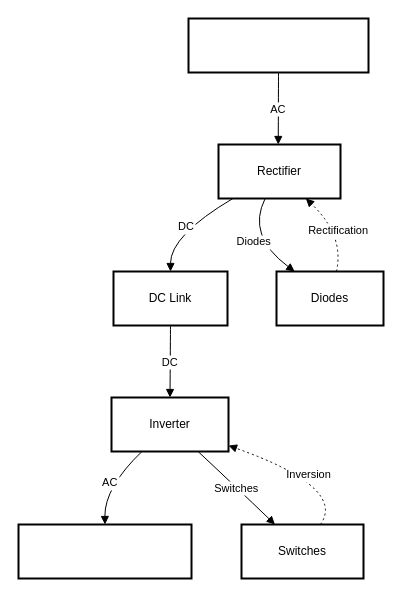
The diagram is 401 pixels wide and 596 high, and some of its shapes have lost their labels. The shapes that lost their labels are listed below. From the top down, each one's centre as x and y in pixels, then its label:
the point at 278,45: AC Power Source
the point at 104,551: Induction Motor
